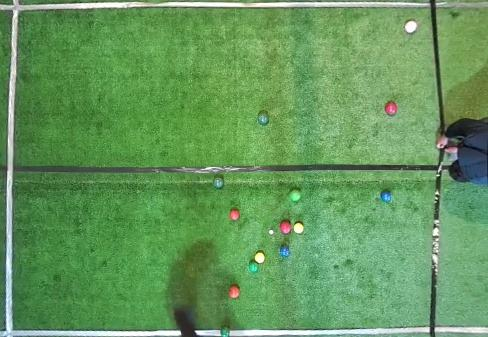blue: (380, 190, 391, 203), (280, 246, 291, 257)
green: (289, 189, 301, 201), (257, 113, 269, 125), (213, 177, 224, 188), (248, 261, 258, 272), (220, 325, 230, 336)
red: (384, 100, 397, 116), (404, 20, 417, 34), (229, 285, 241, 299), (280, 221, 291, 234), (229, 208, 240, 220)
vline: (429, 149, 487, 336), (430, 0, 487, 137), (0, 0, 21, 336)
white: (269, 229, 274, 235)
yellow: (254, 252, 265, 264), (293, 223, 304, 233)
